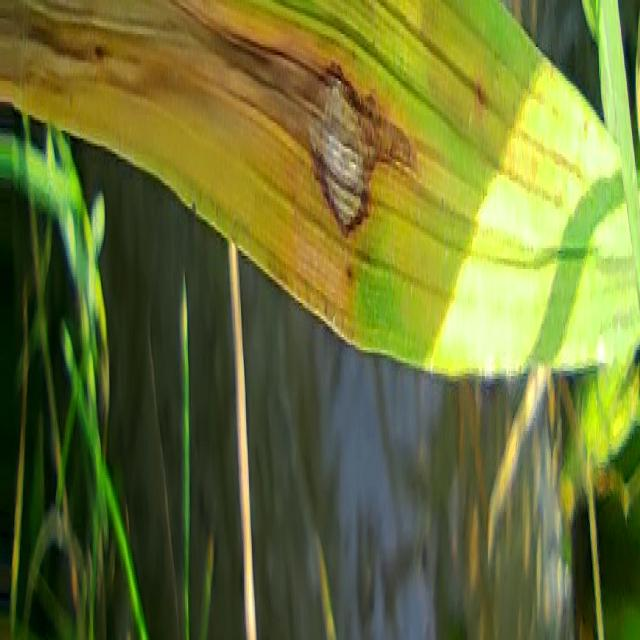LEAF BLAST: (304, 60, 410, 240)
